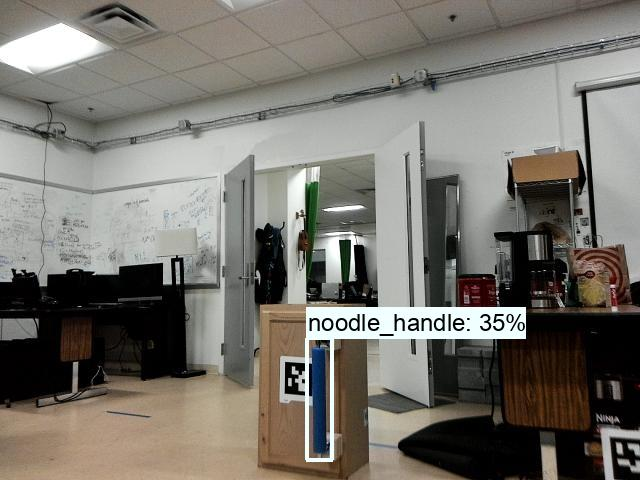noodle_handle: (306, 343, 331, 455)
